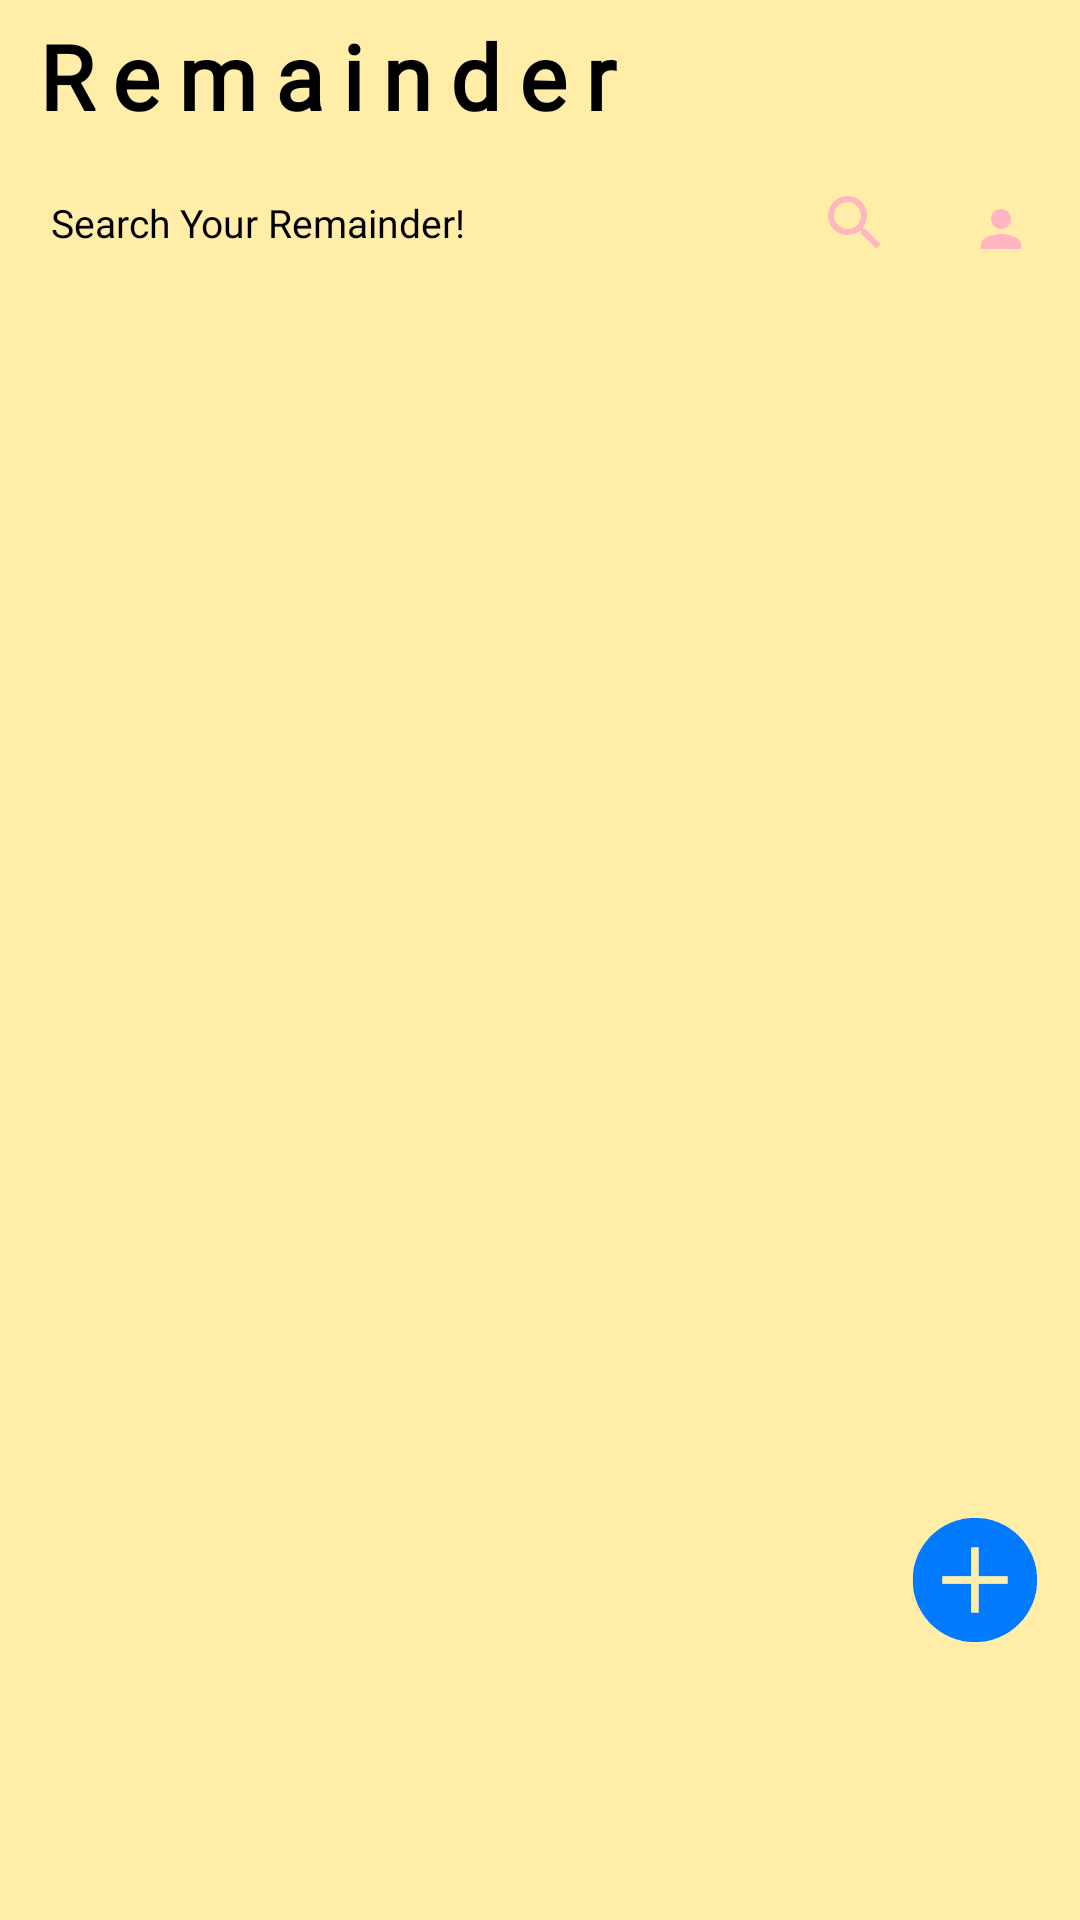

Icons on this 1080×1920 Android screen, each with the point to tap as (x=x, y=y):
person: (x=1001, y=229)
plus: (x=974, y=1580)
